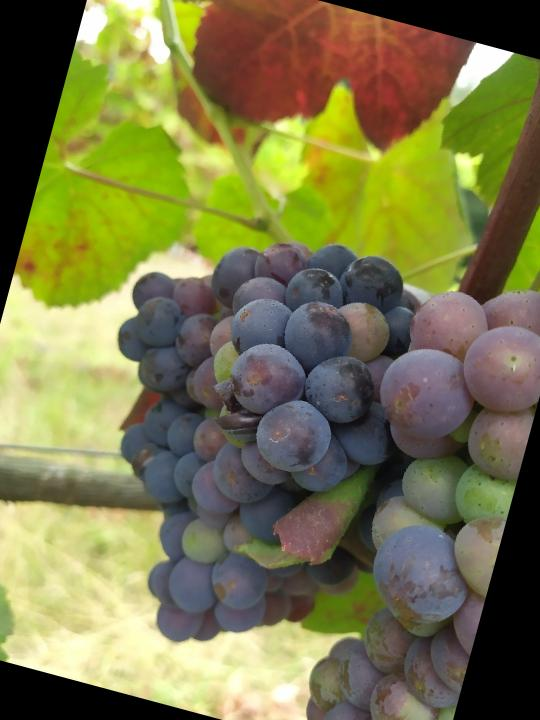grape: (40, 188, 480, 699)
